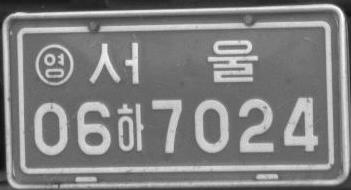0: (194, 99, 230, 154), (33, 101, 67, 156)
2: (238, 97, 274, 152)
4: (283, 96, 318, 152)
6: (76, 100, 111, 155)
7: (151, 98, 182, 153)
서울_D: (88, 37, 258, 84)
영: (34, 43, 73, 86)
하: (117, 102, 144, 151)
